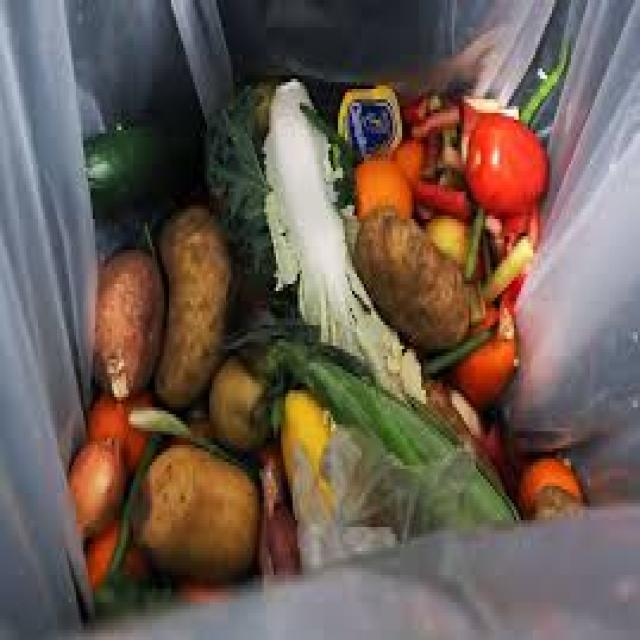Wet: (361, 208, 469, 347), (146, 452, 259, 560), (162, 215, 220, 403), (91, 262, 156, 395), (472, 116, 548, 208), (526, 458, 574, 501), (364, 167, 405, 211)
